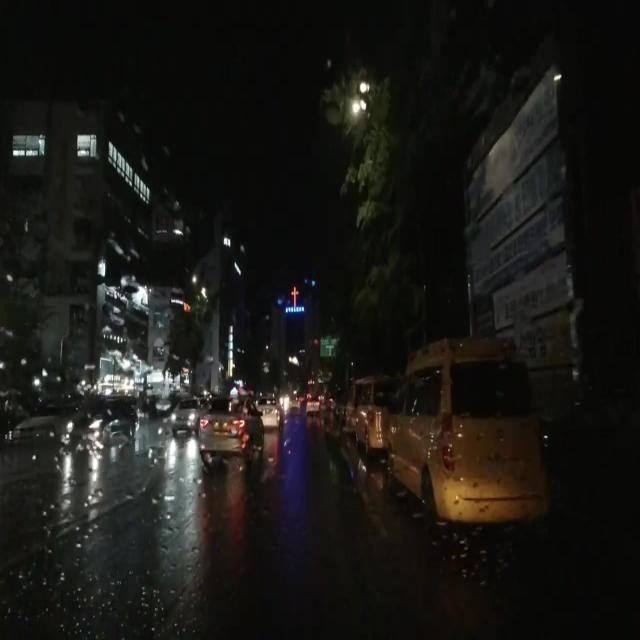Car: (384, 333, 545, 518), (197, 392, 264, 460), (66, 398, 139, 447), (353, 371, 390, 447), (256, 395, 281, 425), (171, 399, 194, 431), (304, 394, 319, 413)
